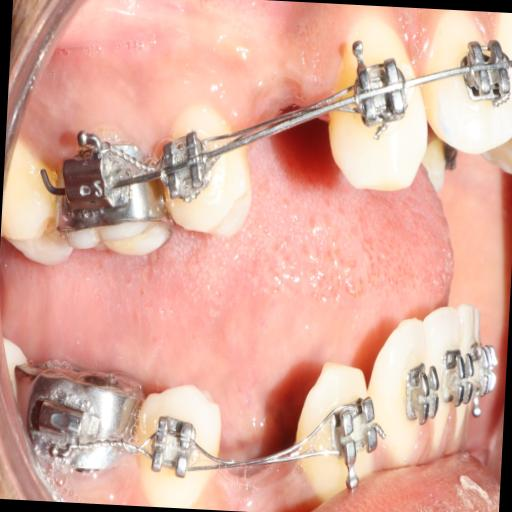correct_brace: (162, 102, 256, 234), (134, 383, 223, 499), (146, 412, 202, 480), (353, 59, 408, 127), (328, 392, 380, 460)
incorrect_brace: (158, 126, 214, 202)
